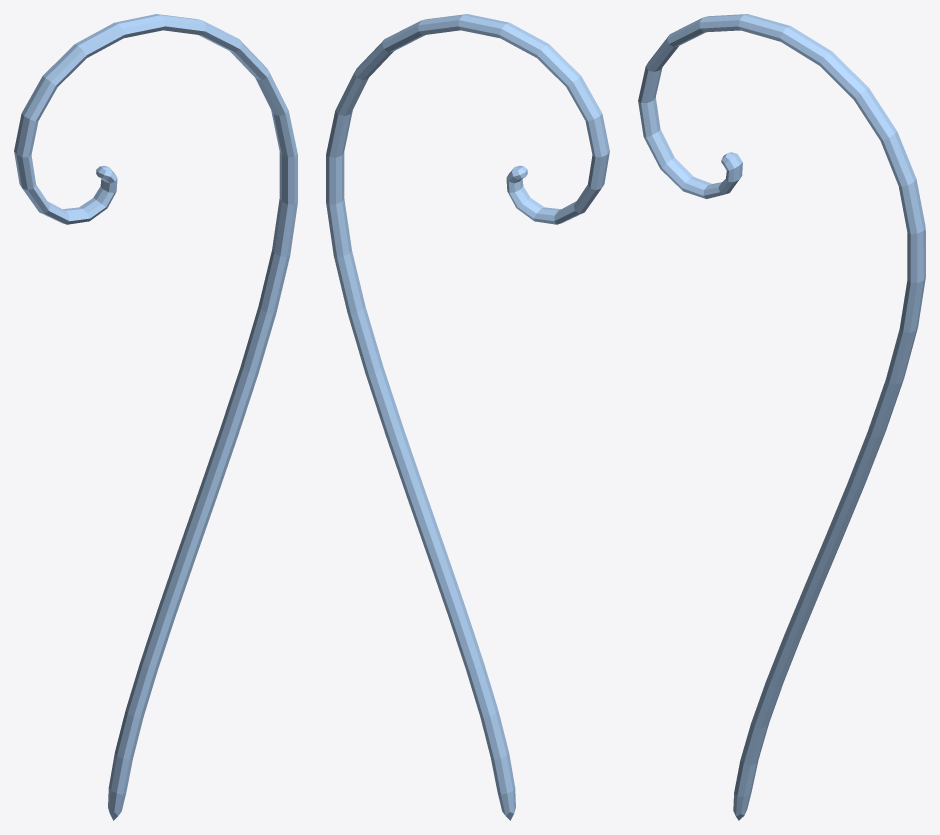
The model's file is Wind.glb.
The picture shows the model from 3 angles, left to right: view 1: azimuth 30°, elevation 25°; view 2: azimuth 150°, elevation 25°; view 3: azimuth 330°, elevation 25°; orthographic projection.
Visible parts, largest first — view 1: Plane; view 2: Plane; view 3: Plane.
Part boxes in pixels (bbox=[...]): Plane: bbox=[14, 14, 297, 820]; Plane: bbox=[326, 14, 609, 820]; Plane: bbox=[638, 14, 925, 820].
Size of the model in its own units: 0.8065 by 2.2 by 0.0576.
